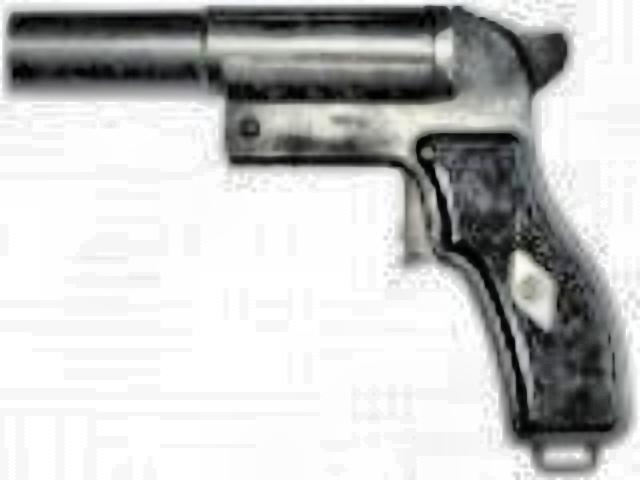pistol: (4, 0, 628, 448)
